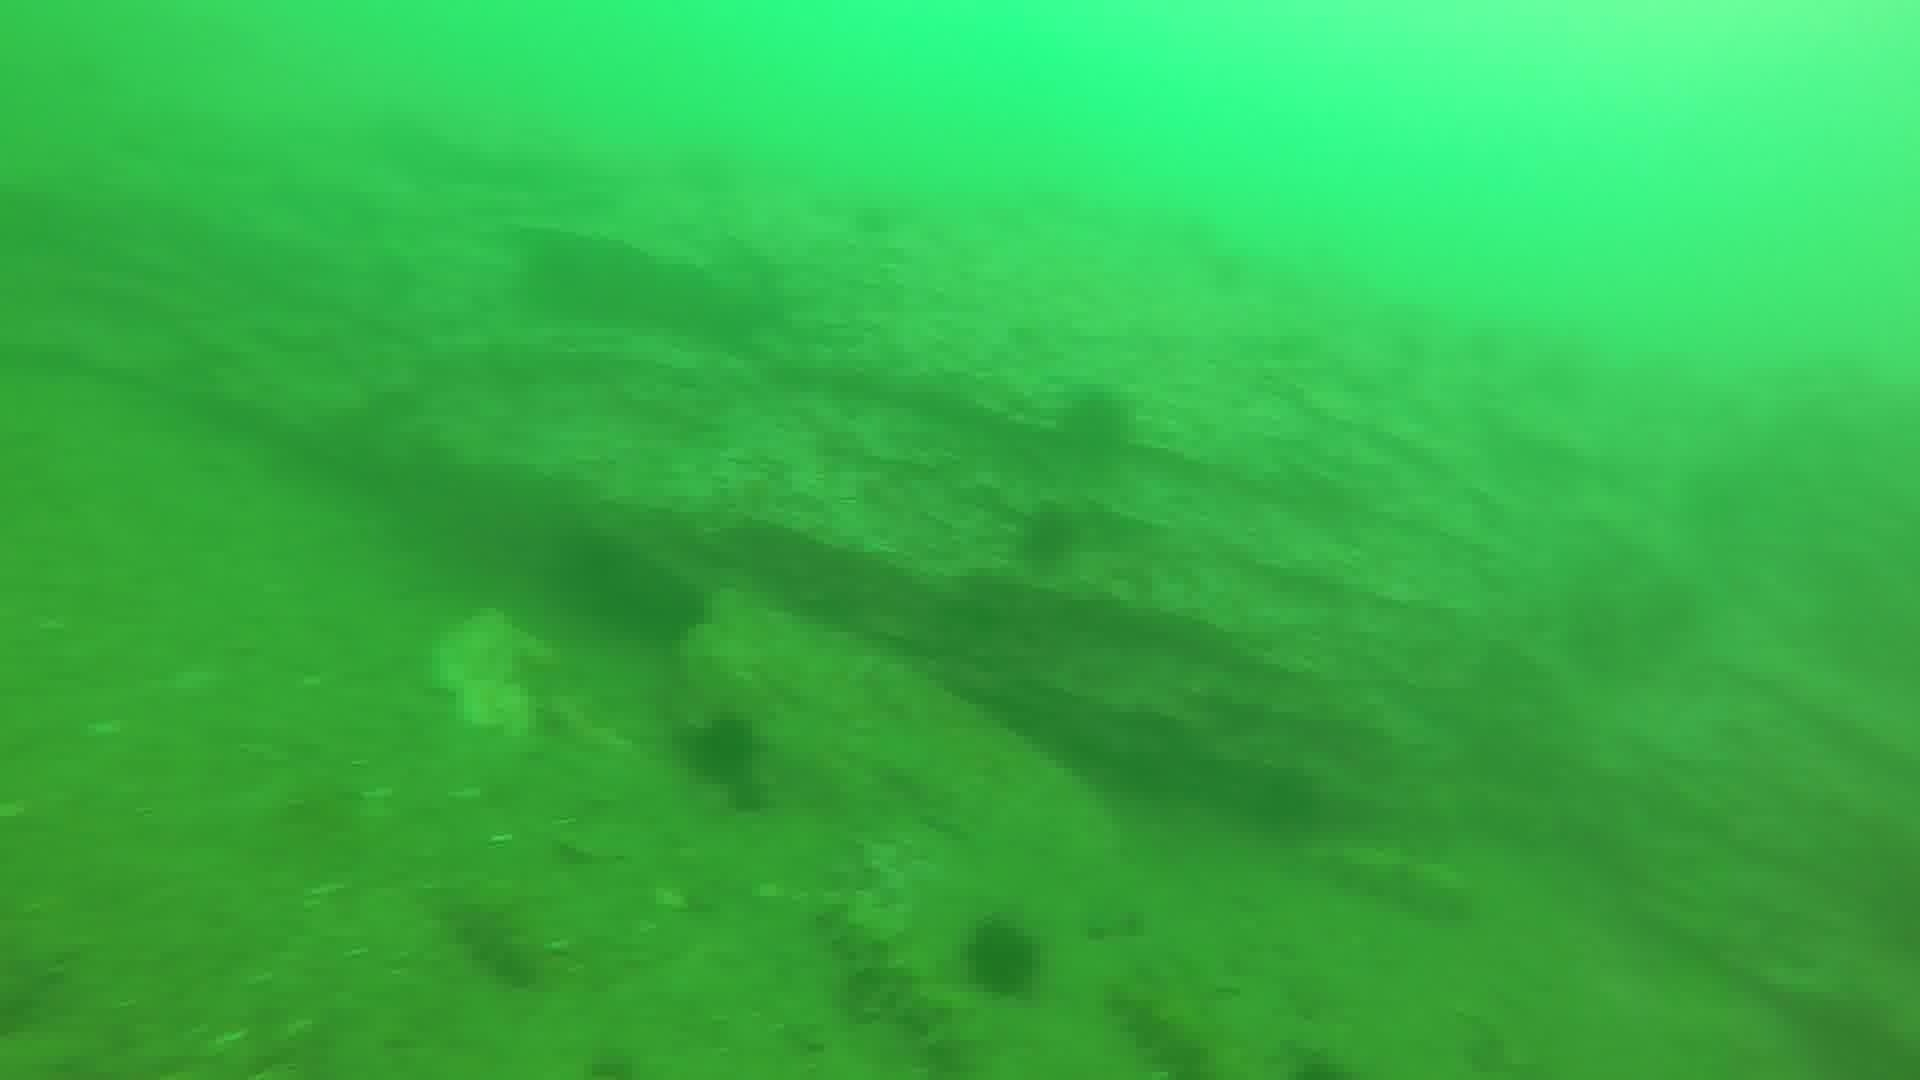echinus: (676, 705, 771, 795), (956, 914, 1048, 1004), (1050, 382, 1139, 468), (1007, 498, 1087, 576)
holothurian: (818, 893, 989, 1073), (1309, 836, 1477, 924), (1101, 972, 1217, 1077), (438, 891, 547, 994)
